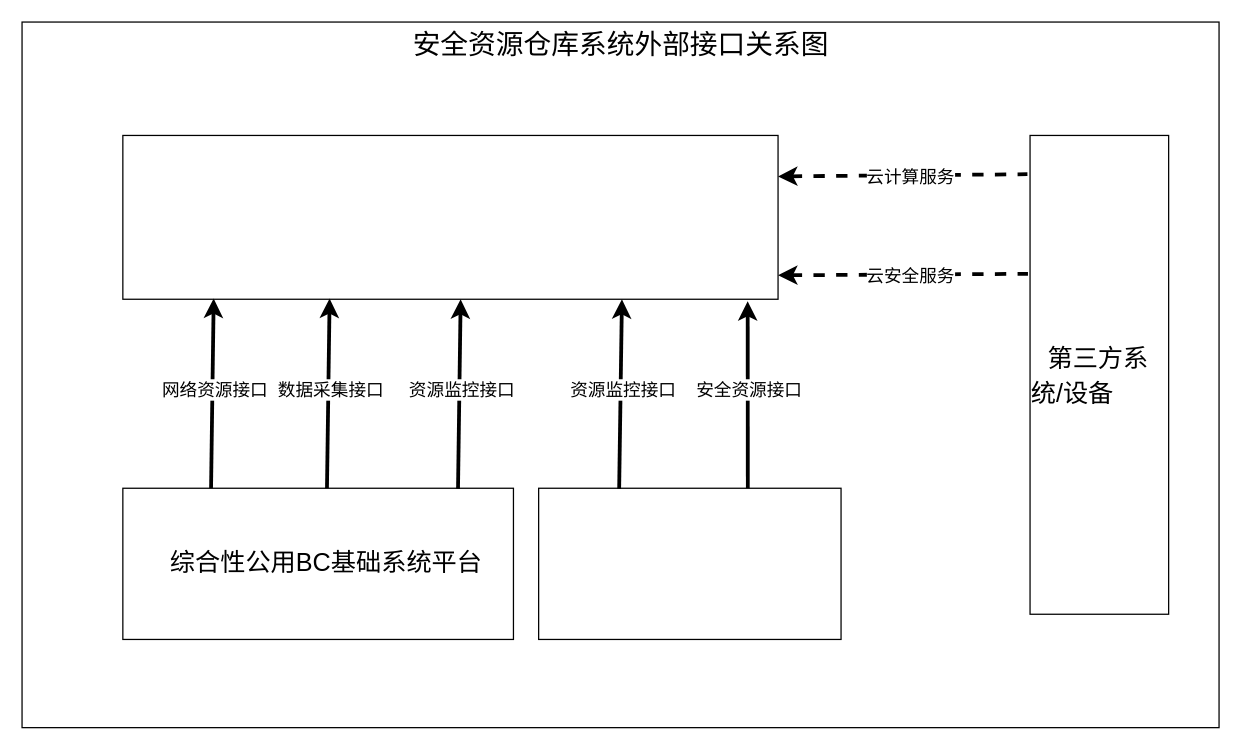
The diagram is 1241 pixels wide and 750 high, and some of its shapes have lost their labels. Here are the shapes that lost their labels. From the top down, the centre of each, then its label:
point (450, 216): 安全资源仓库系统
point (689, 563): LHGK安全防护系统 平台
